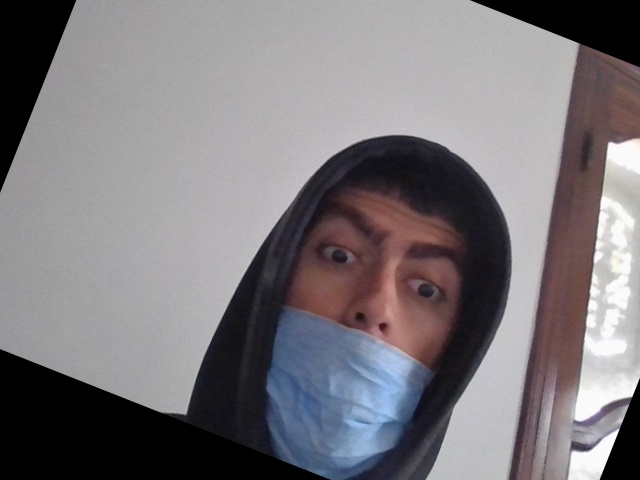mask_weared_incorrect: (276, 186, 480, 471)
